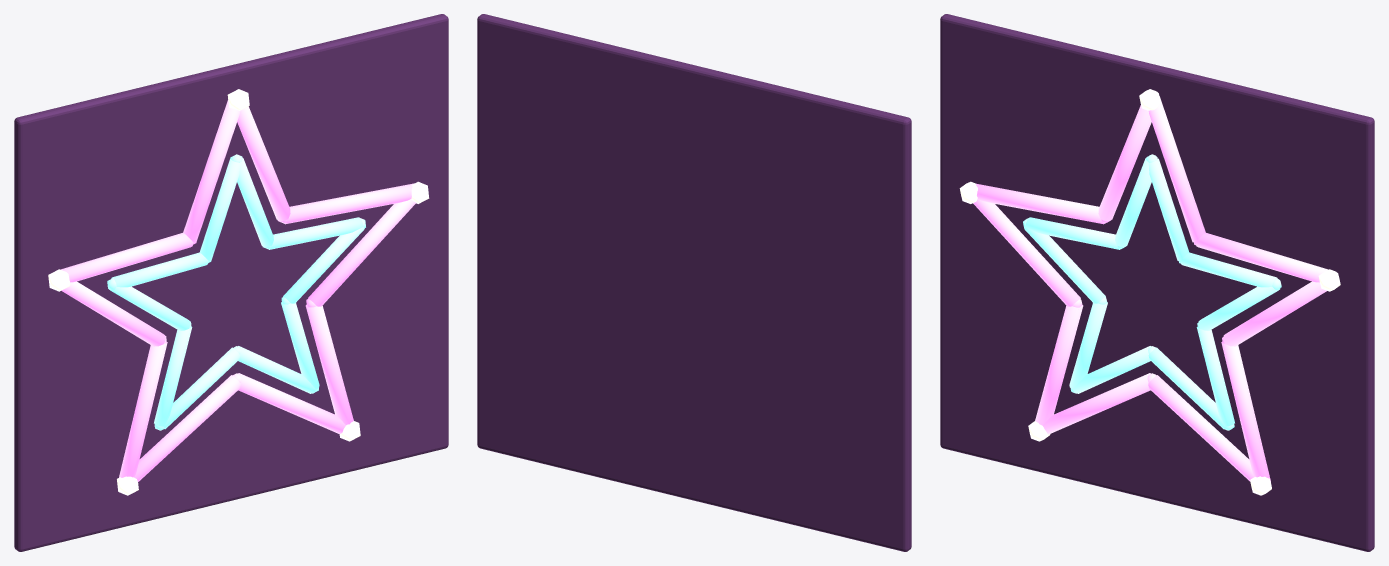
The model's file is pc_neon_star.glb.
3 renders of one model, left to right at view 1: azimuth 30°, elevation 25°; view 2: azimuth 150°, elevation 25°; view 3: azimuth 330°, elevation 25°, orthographic.
Parts seen in each view (by area): view 1: pc_neon_star; view 2: pc_neon_star; view 3: pc_neon_star.
Boxes of the visible parts, bbox=[...] form: pc_neon_star: bbox=[14, 14, 448, 551]; pc_neon_star: bbox=[477, 14, 911, 551]; pc_neon_star: bbox=[940, 14, 1374, 551].
Bounding box in the file's own units: 2.4 × 2.3 × 0.151.
